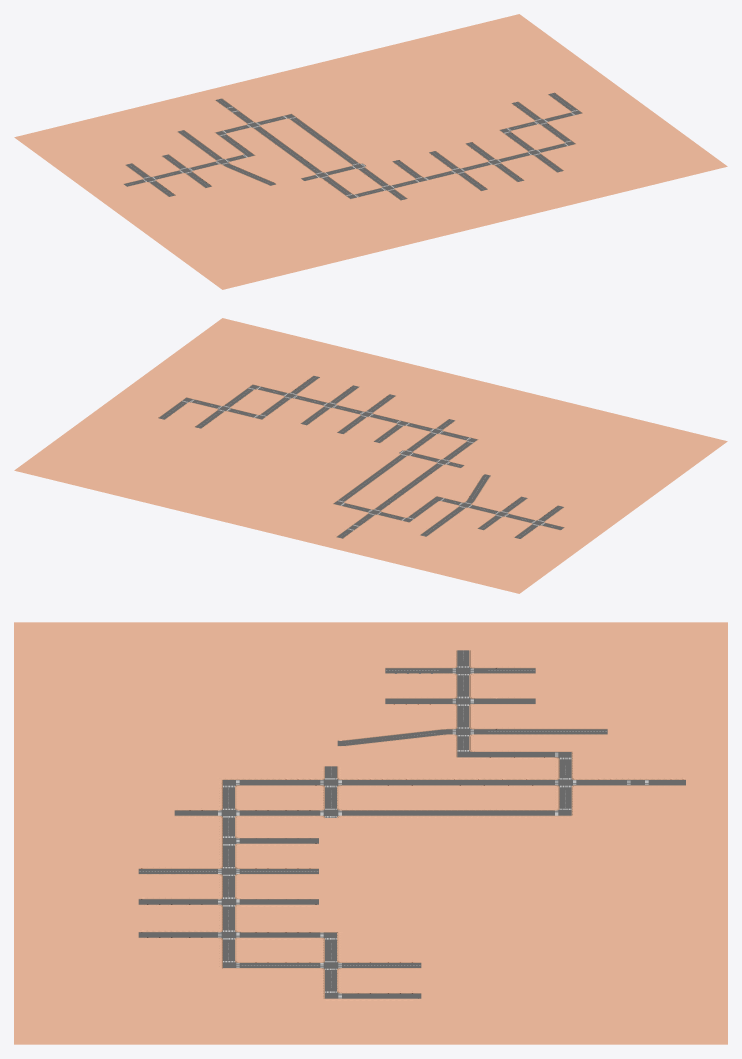
Rendered from Level 04.fbx.
3 views of the same model, one above another, from view 1: azimuth 30°, elevation 25°; view 2: azimuth 150°, elevation 25°; view 3: azimuth 270°, elevation 25° (orthographic). The views are drawn at different scales.
Parts seen in each view (by area): view 1: Side_Path, Footpath, Road; view 2: Side_Path, Footpath, Road; view 3: Side_Path, Road, Footpath.
Part boxes in pixels (x1=…): Side_Path: x1=14, y1=14, x2=727, y2=289; Footpath: x1=122, y1=92, x2=586, y2=200; Road: x1=124, y1=93, x2=581, y2=200; Side_Path: x1=14, y1=318, x2=727, y2=593; Footpath: x1=155, y1=375, x2=566, y2=539; Road: x1=159, y1=376, x2=563, y2=538; Side_Path: x1=14, y1=622, x2=727, y2=1044; Road: x1=138, y1=650, x2=685, y2=998; Footpath: x1=138, y1=650, x2=685, y2=1000.
Size of the model in its own units: 83077 by 120 by 59364.
